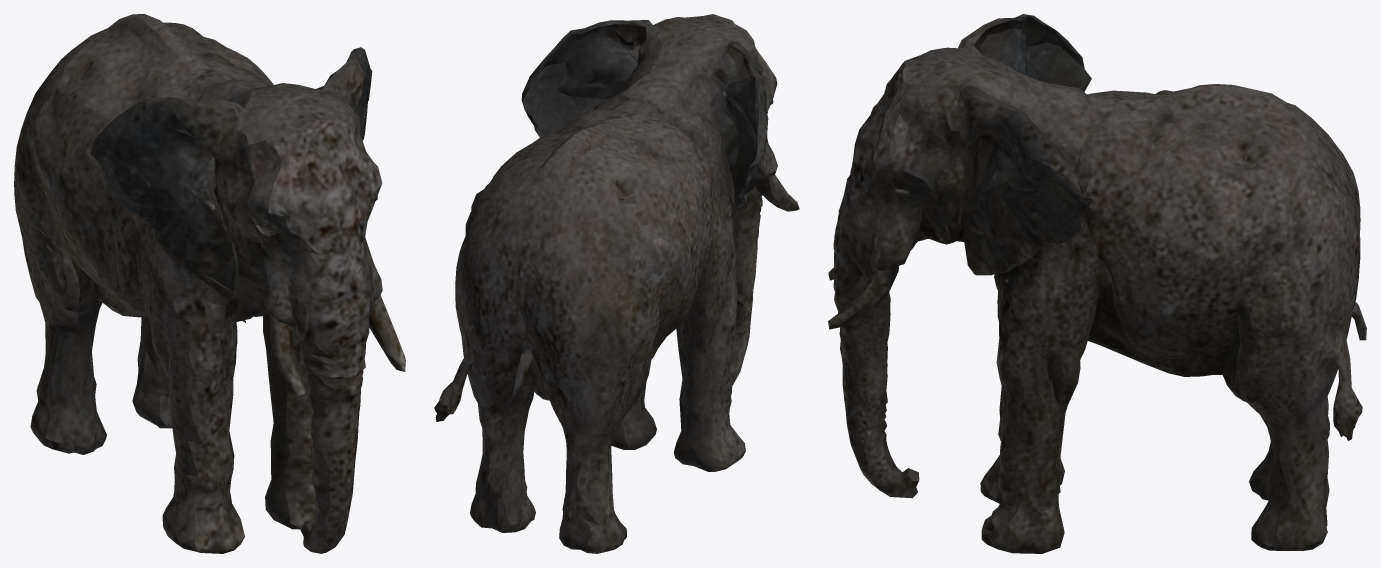
The picture shows the model from 3 angles, left to right: view 1: azimuth 30°, elevation 25°; view 2: azimuth 150°, elevation 25°; view 3: azimuth 270°, elevation 25°; orthographic projection. The views are drawn at different scales.
Parts seen in each view (by area): view 1: geometry_0; view 2: geometry_0; view 3: geometry_0.
Part boxes in pixels (x1,y1,x2,y2): geometry_0: [14, 14, 405, 553]; geometry_0: [434, 14, 799, 553]; geometry_0: [828, 14, 1366, 553].
Bounding box in the file's own units: 6 × 9.61 × 10.23.
Materials: 1 (1 with a texture image).
